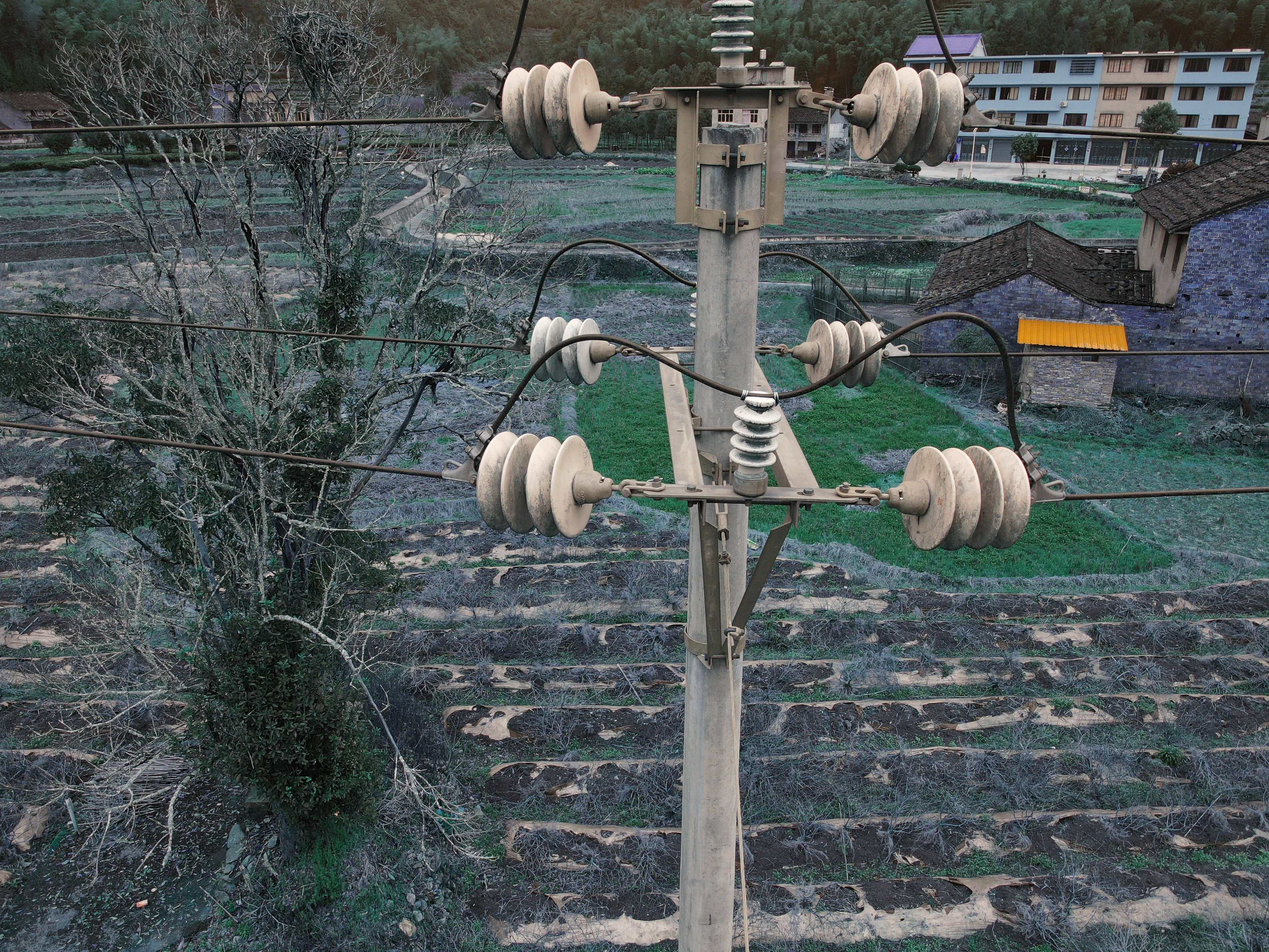severe_soiling_no_discharge_whole: (474, 429, 616, 541), (890, 443, 1035, 552), (839, 61, 969, 169), (497, 58, 616, 162), (794, 318, 885, 390), (530, 312, 616, 387), (726, 390, 782, 497), (709, 2, 756, 85)
